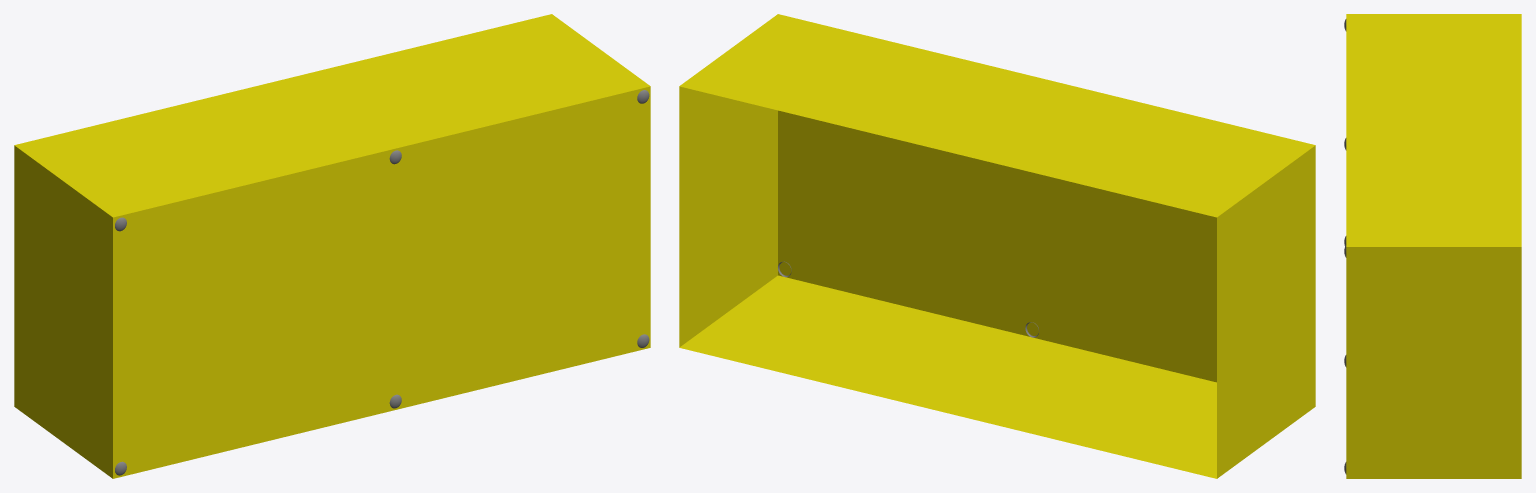
File: Sign.fbx
3 views of the same model, side by side, from view 1: azimuth 30°, elevation 25°; view 2: azimuth 150°, elevation 25°; view 3: azimuth 270°, elevation 25° (orthographic). The views are drawn at different scales.
Visible parts, largest first — view 1: polySurface773; view 2: polySurface773; view 3: polySurface773.
Boxes of the visible parts, x1,y1,x2,y2 form: polySurface773: (14,14,650,478); polySurface773: (679,14,1315,478); polySurface773: (1344,14,1521,478).
Bounding box in the file's own units: 0.5209 × 0.242 × 0.1677.
